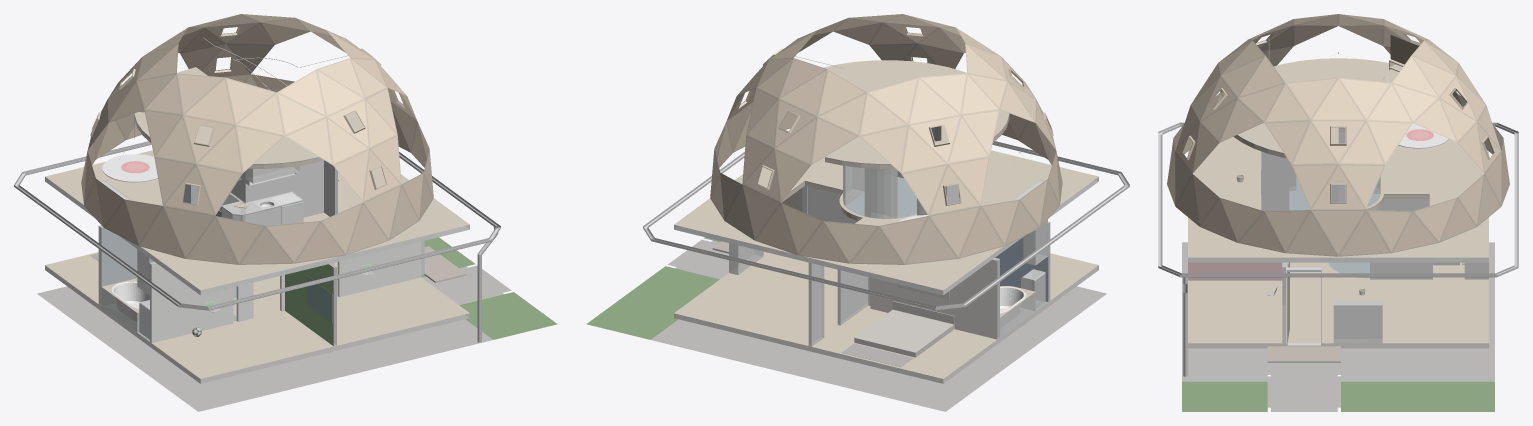
File: roof-house.glb
3 renders of one model, left to right at view 1: azimuth 30°, elevation 25°; view 2: azimuth 150°, elevation 25°; view 3: azimuth 270°, elevation 25°, orthographic. The views are drawn at different scales.
Parts seen in each view (by area): view 1: Node4547, Node4834, Node4490, Node2584, Node2588, Node1769, Node4832, Node1535, Node4544, Node26, Node4542, Node4548 (+63 smaller); view 2: Node4834, Node4547, Node4490, Node4833, Node4540, Node26, Node6763, Node2557, Node2558, Node4544, Node4550, Node4491 (+61 smaller); view 3: Node4547, Node4834, Node4490, Node4833, Node26, Node4832, Node6857, Node2558, Node6861, Node4499, Node4546, Node1534 (+62 smaller).
Part boxes in pixels (<box>): Node4547: <box>45,252,469,378</box>; Node4834: <box>37,265,511,411</box>; Node4490: <box>45,150,469,290</box>; Node2584: <box>151,263,233,342</box>; Node2588: <box>339,241,421,297</box>; Node1769: <box>245,160,323,225</box>; Node4832: <box>459,292,557,339</box>; Node1535: <box>285,264,333,345</box>; Node4544: <box>46,269,468,383</box>; Node26: <box>134,67,364,163</box>; Node4542: <box>101,227,137,305</box>; Node4548: <box>200,313,469,383</box>; Node4834: <box>651,239,1106,411</box>; Node4547: <box>674,251,1098,378</box>; Node4490: <box>674,150,1098,290</box>; Node4833: <box>586,266,719,339</box>; Node4540: <box>870,259,997,339</box>; Node26: <box>823,60,1009,163</box>; Node6763: <box>854,309,953,352</box>; Node2557: <box>811,263,868,346</box>; Node2558: <box>809,263,867,344</box>; Node4544: <box>675,269,1097,383</box>; Node4550: <box>674,313,943,383</box>; Node4491: <box>674,225,943,295</box>; Node4547: <box>1188,262,1488,343</box>; Node4834: <box>1182,242,1494,411</box>; Node4490: <box>1188,136,1488,257</box>; Node4833: <box>1341,381,1494,411</box>; Node26: <box>1224,58,1452,152</box>; Node4832: <box>1182,381,1267,411</box>; Node6857: <box>1333,305,1382,343</box>; Node2558: <box>1370,199,1488,279</box>; Node6861: <box>1334,301,1381,338</box>; Node4499: <box>1188,257,1488,262</box>; Node4546: <box>1188,343,1488,348</box>; Node1534: <box>1188,262,1282,280</box>.
Size of the model in its own units: 479 by 326 by 406.
